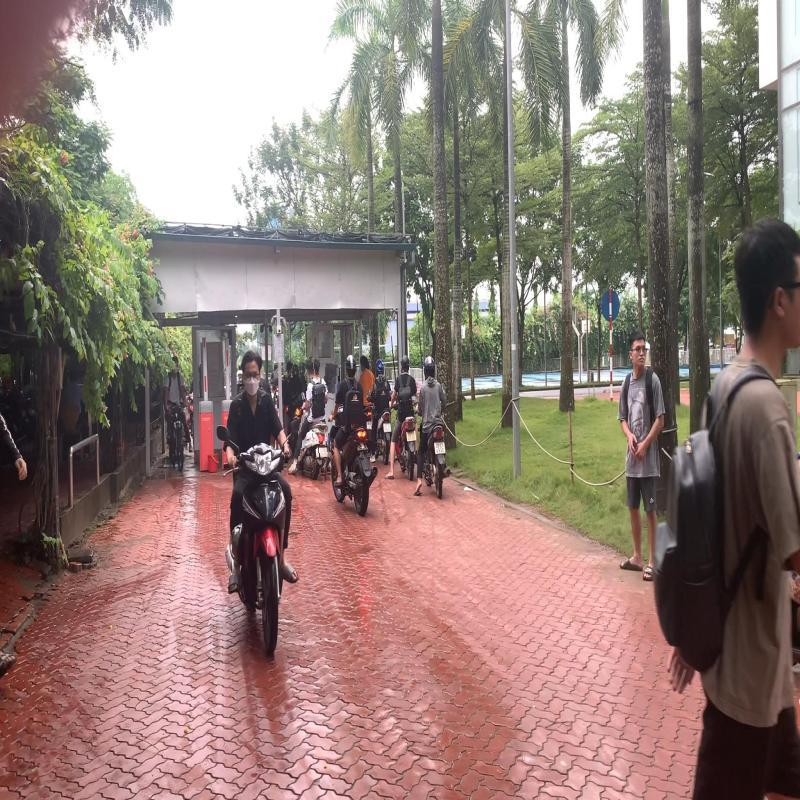licenseplate: (318, 446, 330, 458)
motorcyclist: (290, 358, 336, 482)
nohelmet: (305, 360, 314, 378)
